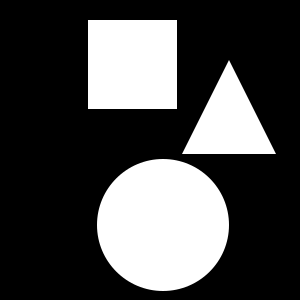circle: (88, 20, 177, 109)
rectangle: (97, 159, 229, 291)
triangle: (182, 60, 276, 154)
